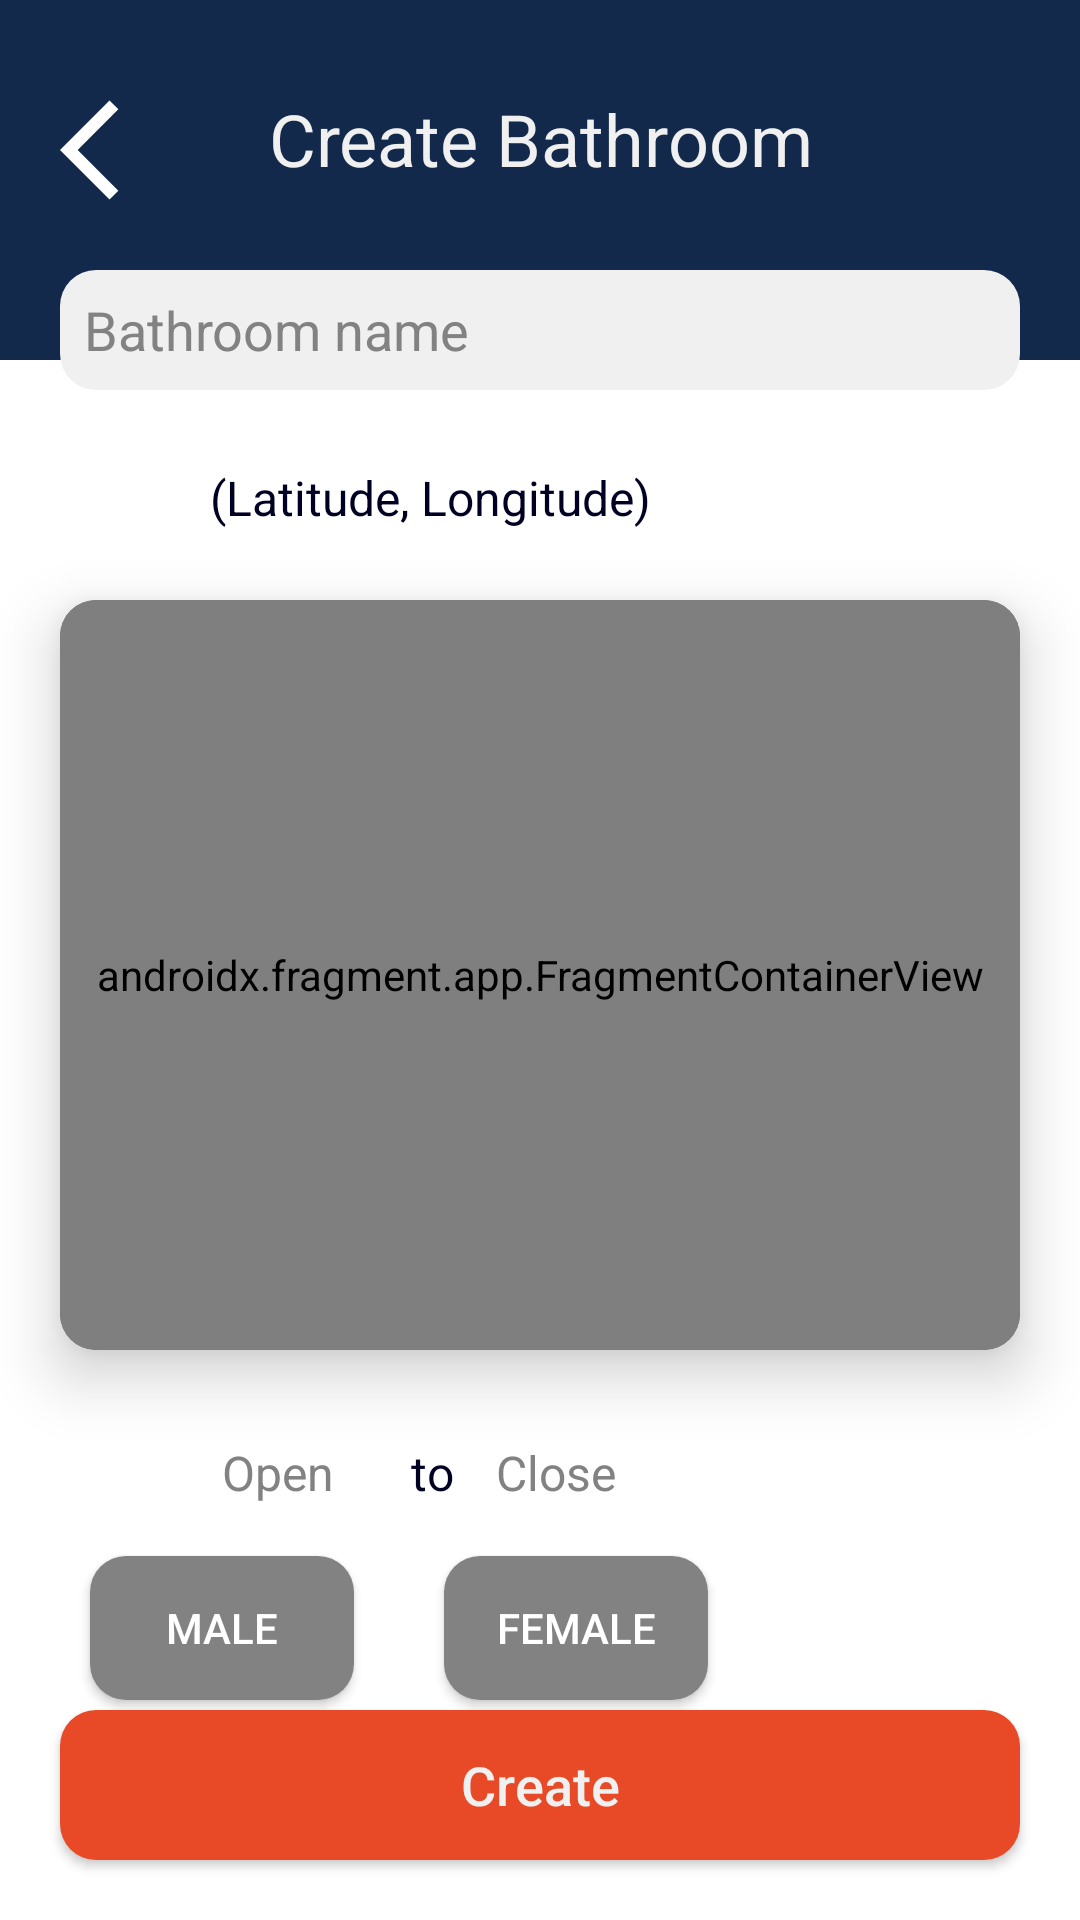

Icon click points for this 1080px x 1920px phone screenshot, format (x=x, y=y):
Back: (x=89, y=150)
